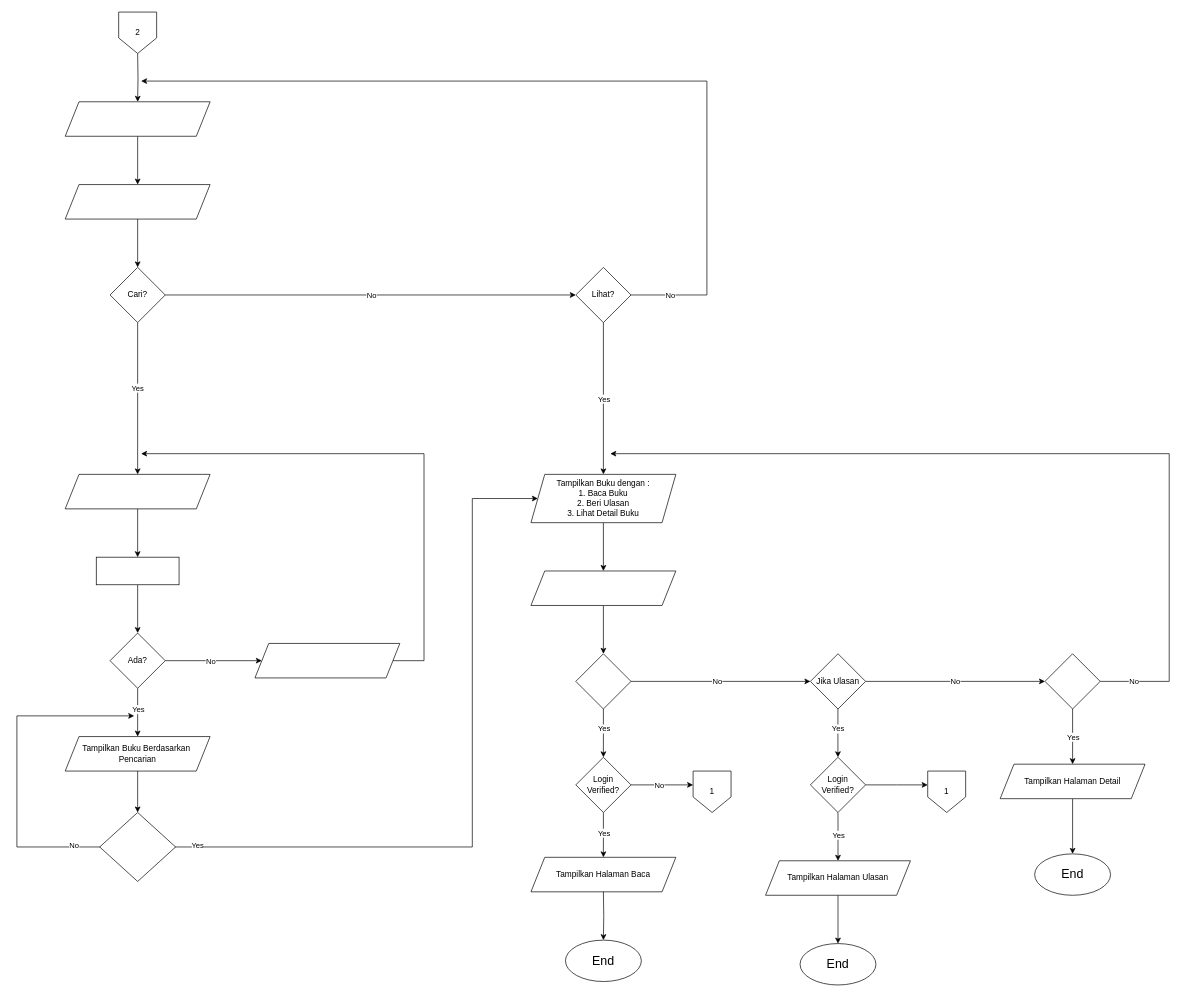
This 1187x997 diagram has some shape labels left out. The centre of each missing label's shape, as x and y in pixels:
Input : Judul / Genre / Penulis: [137,491]
Input pilihan user (Baca / Ulasan / Detail): [603,587]
Input pilihan user (Cari / Lihat): [137,201]
Jika Baca: [603,681]
Jika Detail: [1072,681]
Masuk ke Buku?: [137,846]
Tampilkan Homepage dengan : 1. Cari Buku 2. Lihat Buku: [137,118]
Tampilkan Notifikasi Pop Up "Pencarian tidak ditemukan": [327,660]
Verifikasi Pencarian: [137,570]
